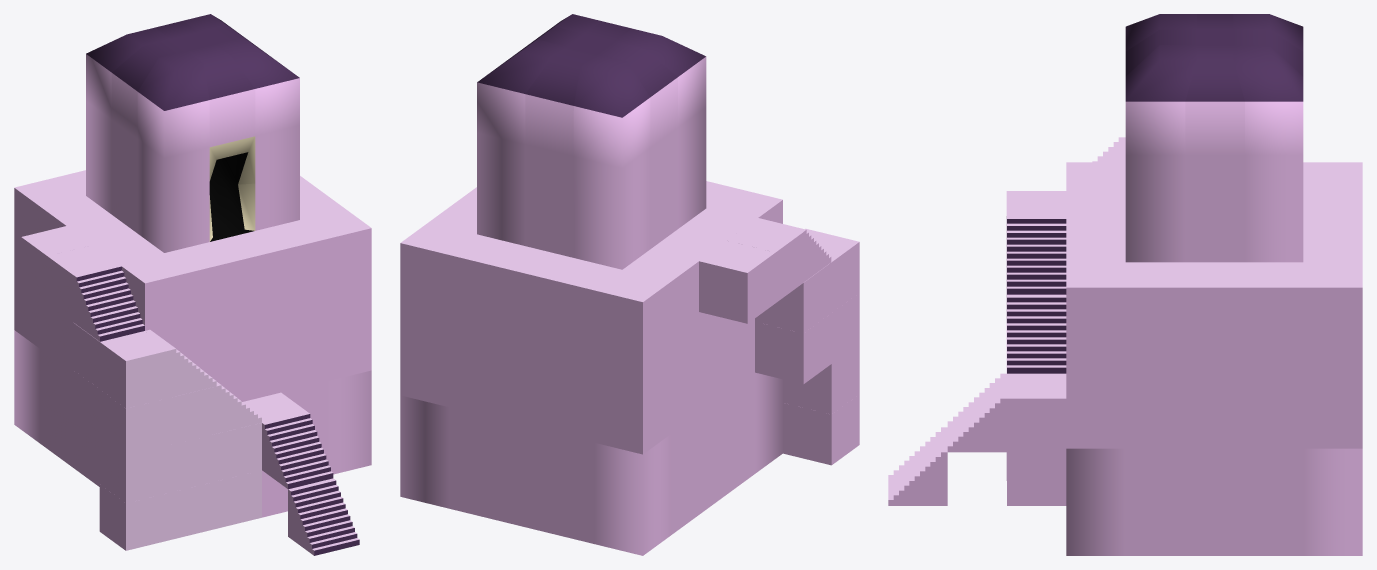
File: house breakable.fbx
The picture shows the model from 3 angles, left to right: view 1: azimuth 30°, elevation 25°; view 2: azimuth 150°, elevation 25°; view 3: azimuth 270°, elevation 25°; orthographic projection. The views are drawn at different scales.
Visible parts, largest first — view 1: Cube.004; view 2: Cube.004; view 3: Cube.004.
Part boxes in pixels (x1=…): Cube.004: x1=14, y1=14, x2=371, y2=555; Cube.004: x1=400, y1=14, x2=859, y2=555; Cube.004: x1=888, y1=14, x2=1362, y2=555.
Size of the model in its own units: 2400 by 3398 by 3200.
